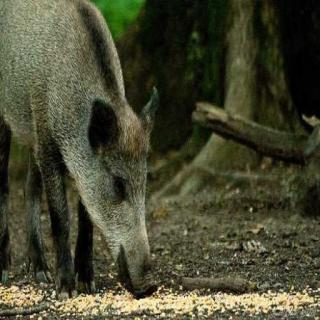Pig: (0, 0, 182, 320)
